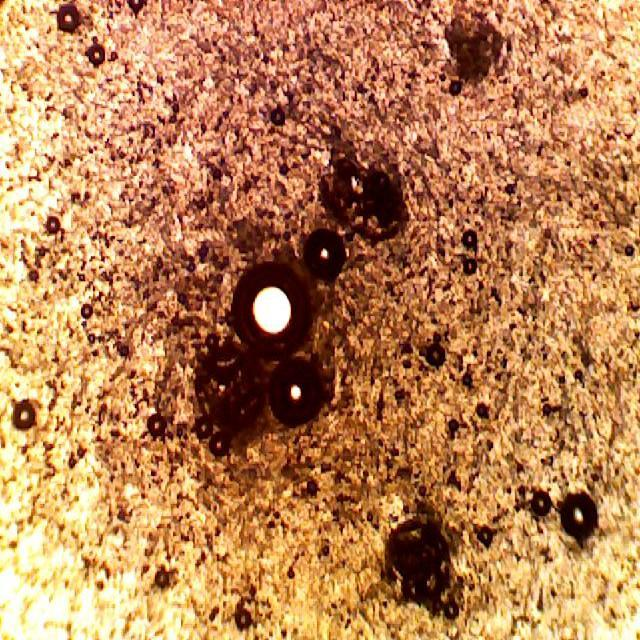microbeads: (304, 223, 348, 284), (558, 490, 600, 542)
